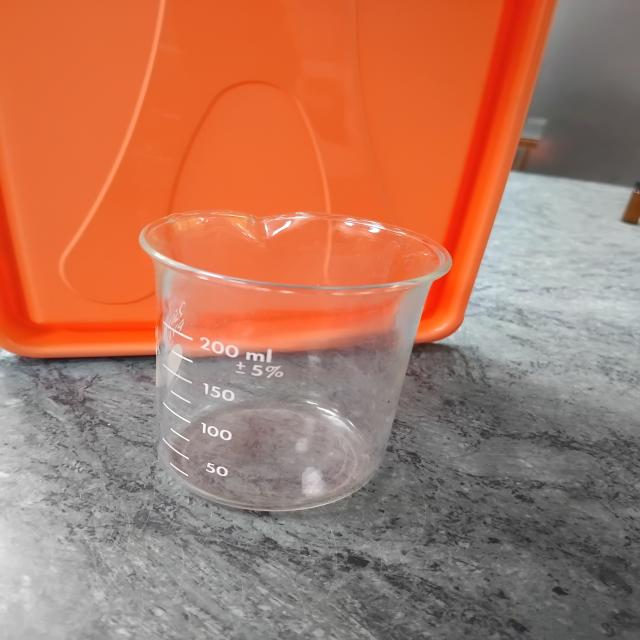Beaker: (107, 152, 472, 538)
